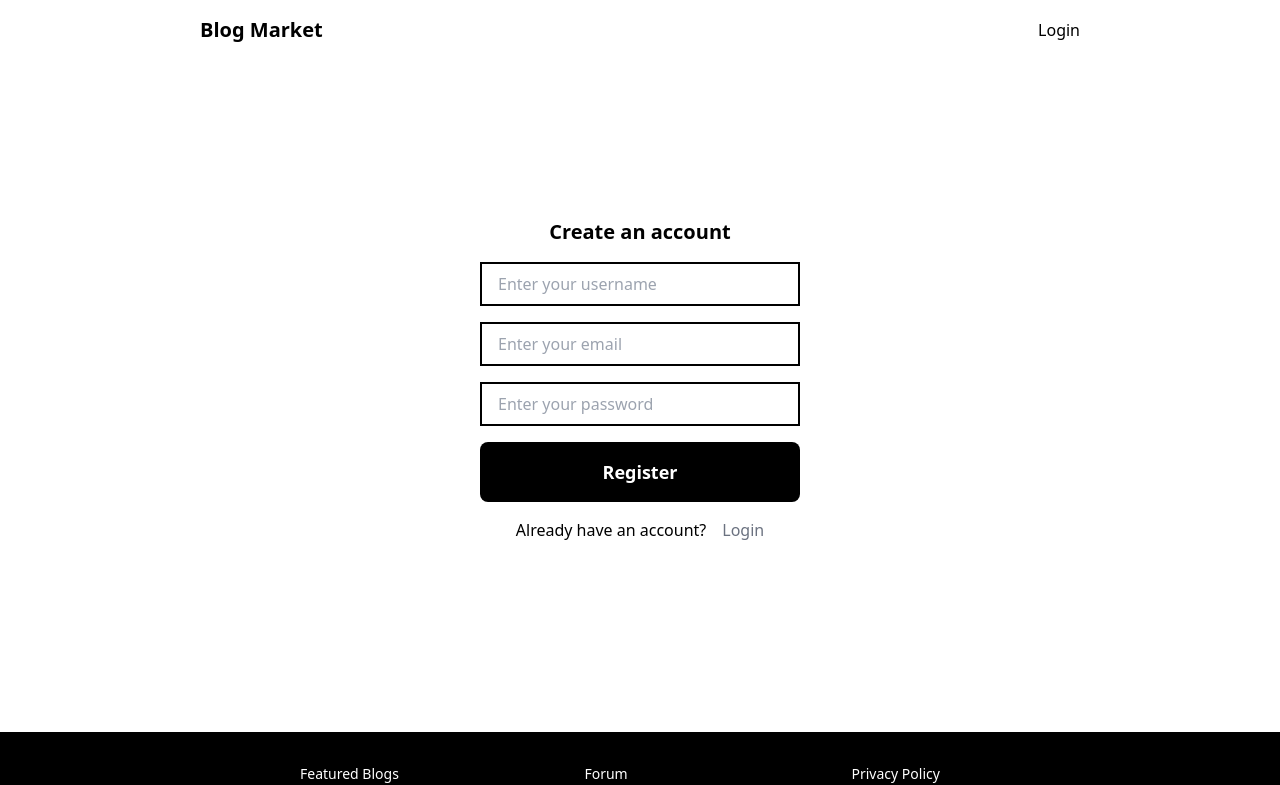
Test: Testing Register UI › should display an error message for unsuccessful registration with existing email
Simulate user input
Step 1. Type "luk333" into the field with placeholder "Enter your username" → (640,284), box [480,262,800,306]
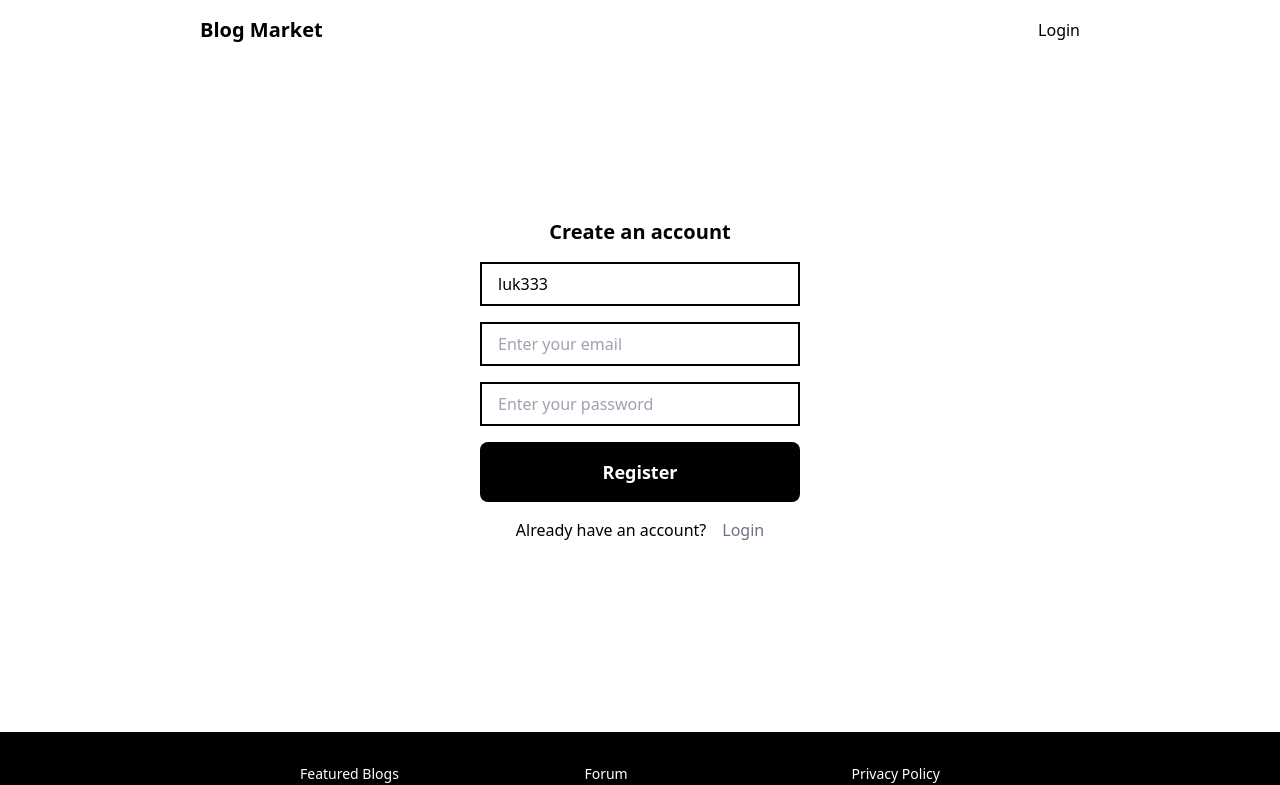
Step 2. Type "testuser@example.com" into the field with placeholder "Enter your email" → (640,344), box [480,322,800,366]
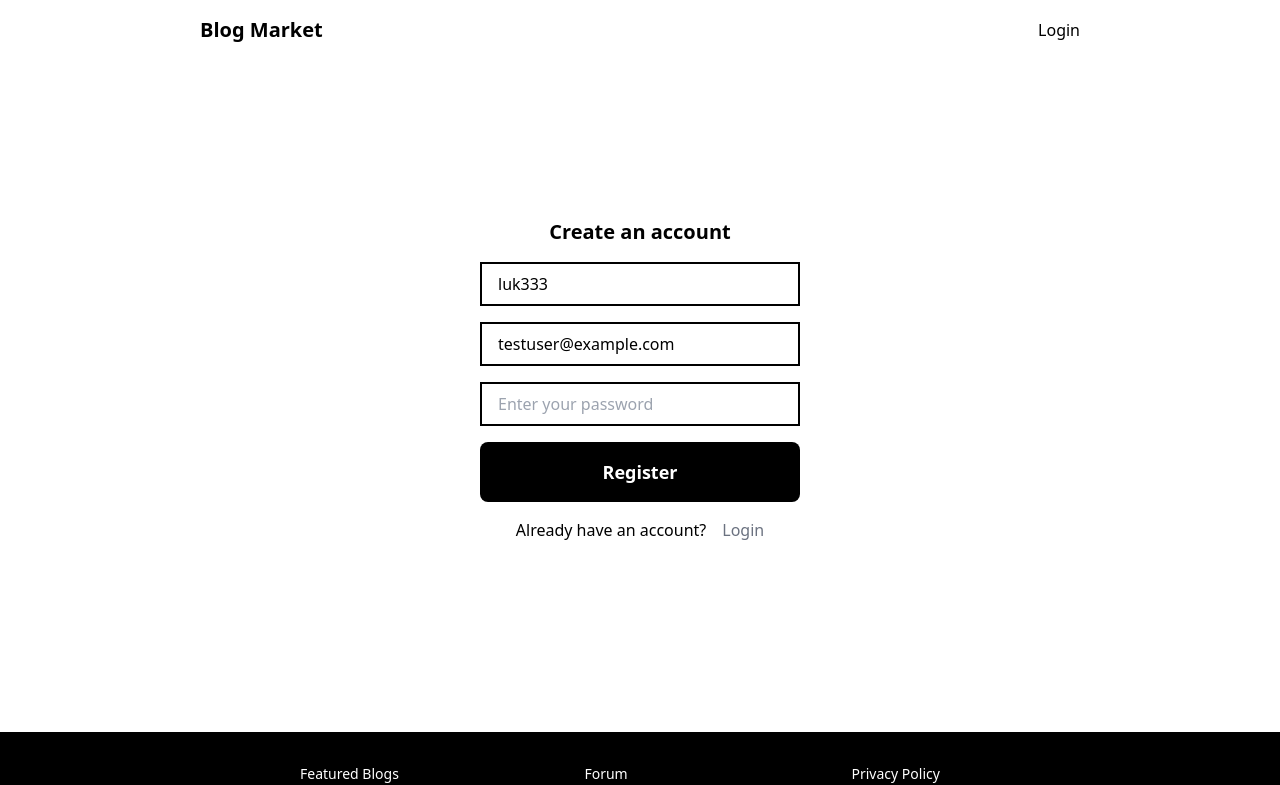
Step 3. Type "anotherpassword" into the password field with placeholder "Enter your password" → (640,404), box [480,382,800,426]
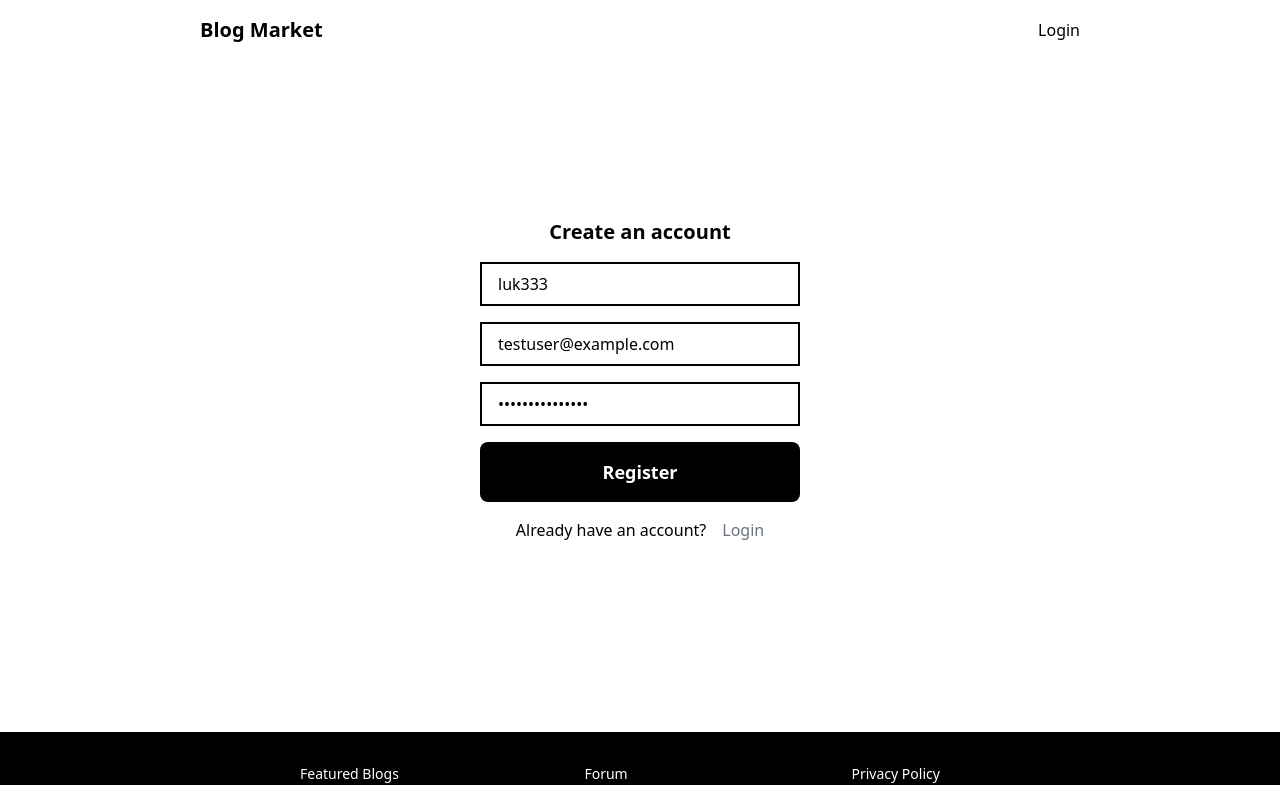
Click the register button
Step 4. Click the button "Register" → (640,472), box [480,442,800,502]
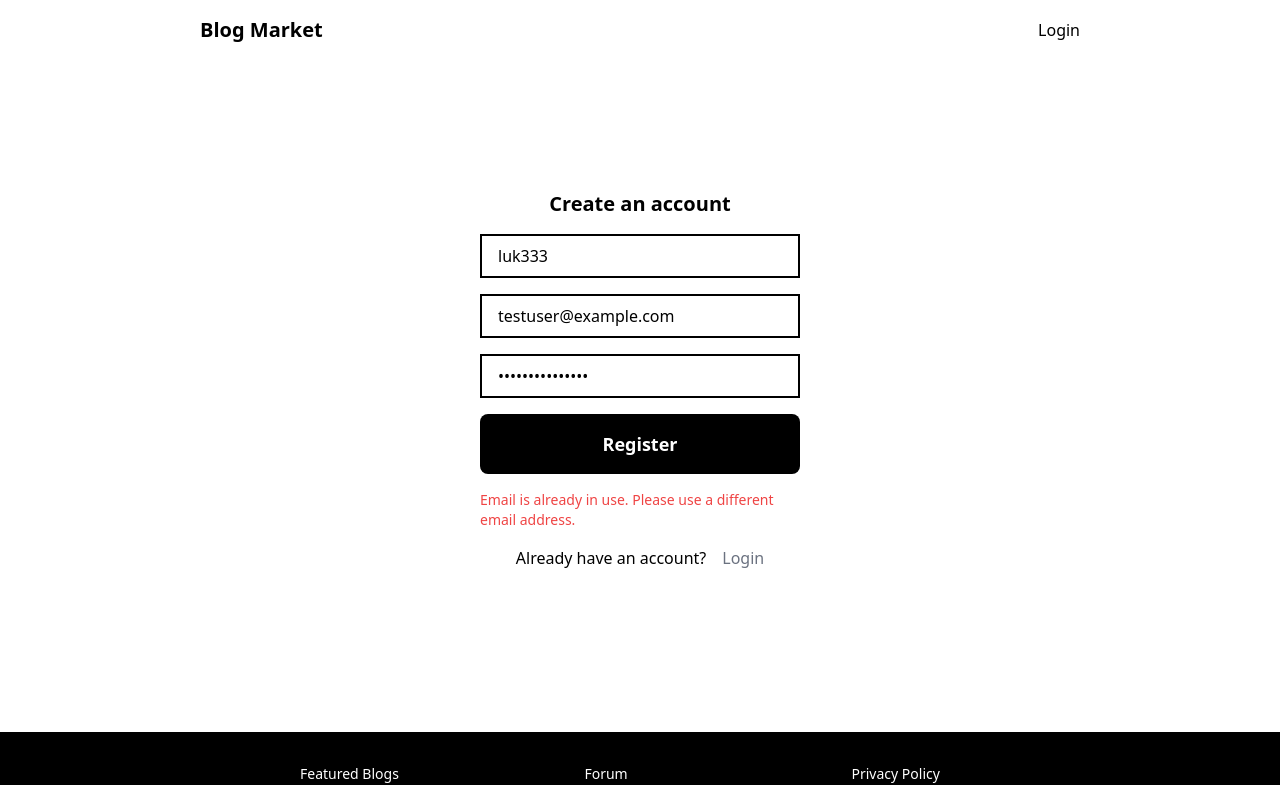
expect the heading "Email is already in use. Please use a different email address." is shown: met, box [480,490,800,530]
